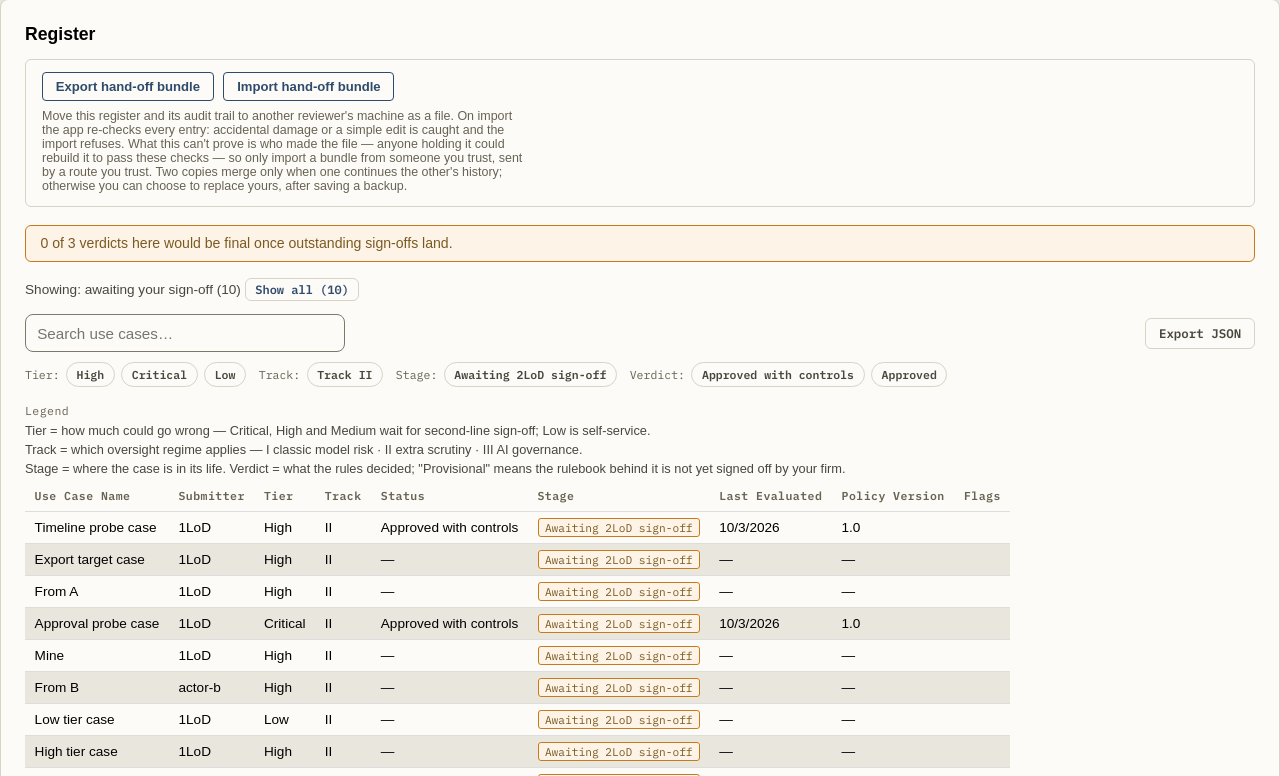
RegisterDetail (V1.2-A) › B5: 2LoD Approve appends twoloD_reviewed then lifecycle_stage_changed and advances the stage to approved
This screenshot has width=1280, height=776.
Click the button "Approval probe case". click: (97, 623)
box: [35,616,159,631]
(page scrolled)
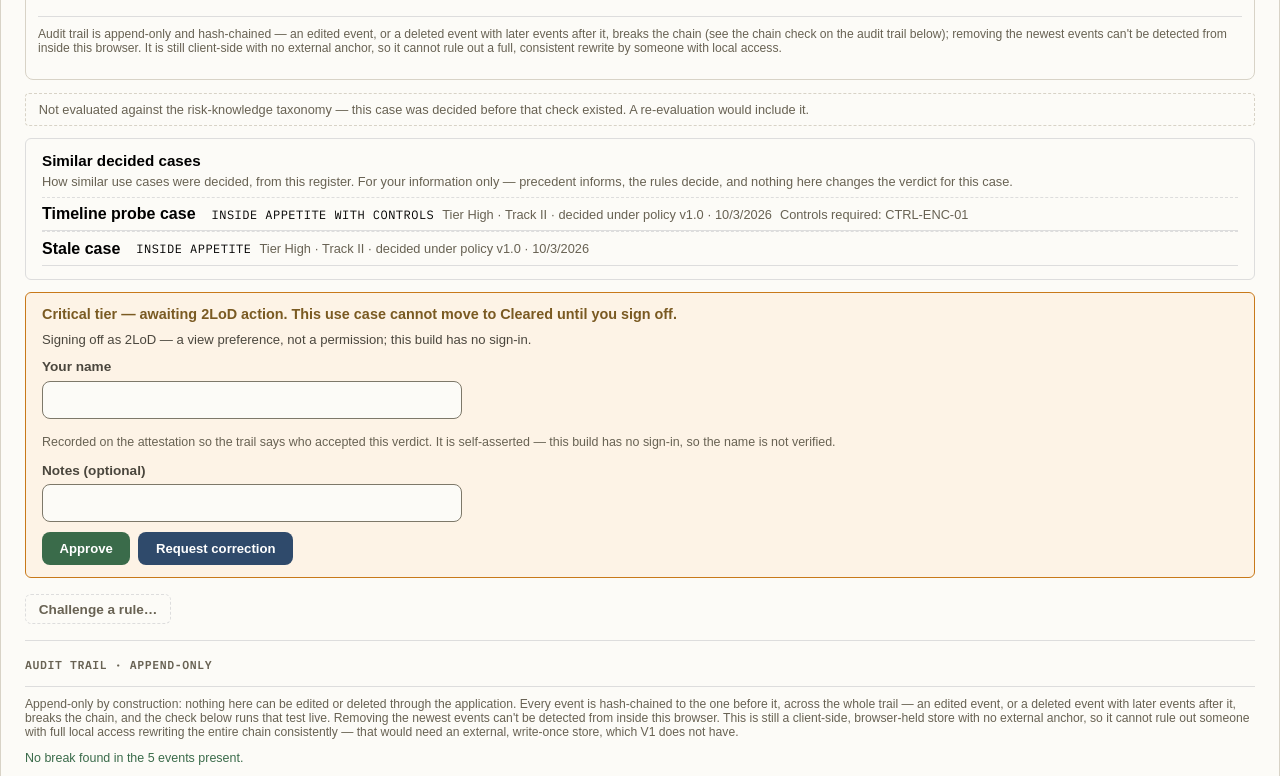
expect the text "awaiting 2LoD action" is shown: met, box [91,306,677,322]
Type "Priya Nair" into the field labelled "Your name". click: (252, 400)
box: [42,381,462,419]
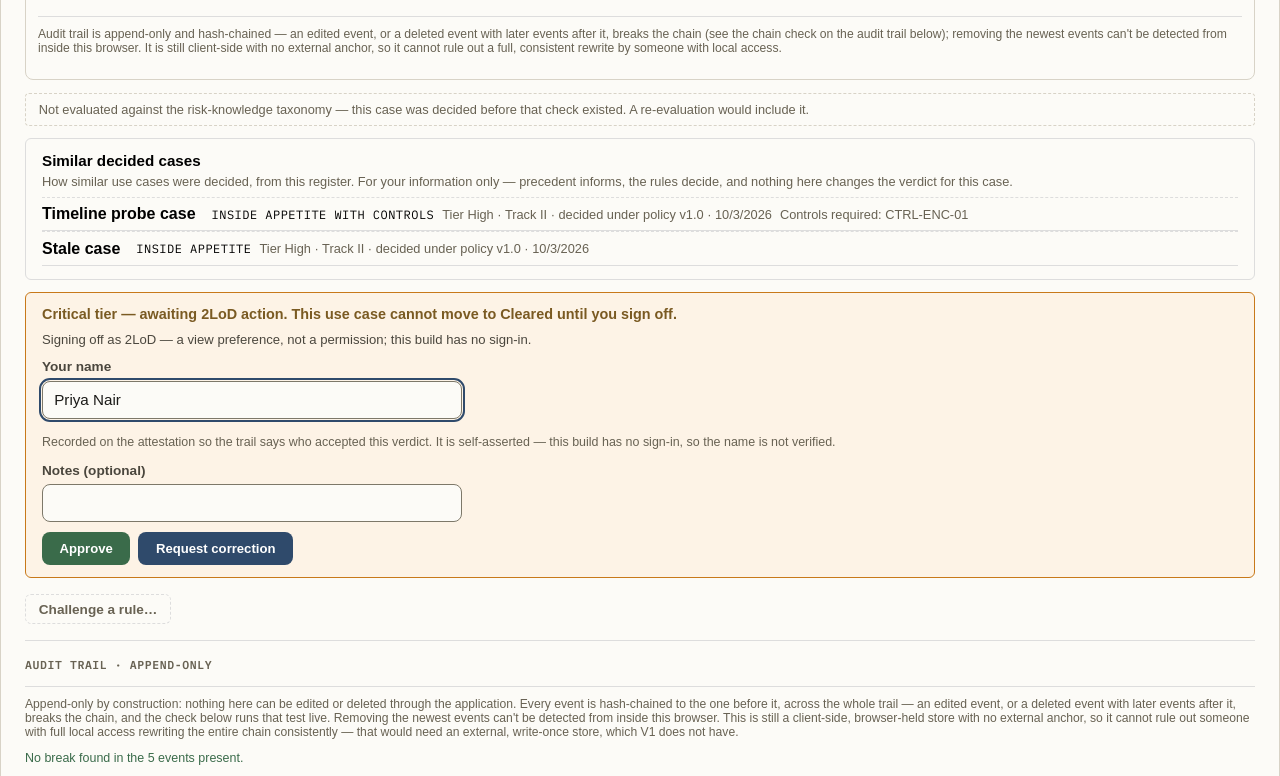
Click the button "Approve". click: (86, 548)
box: [42,532,130,564]
(page scrolled)
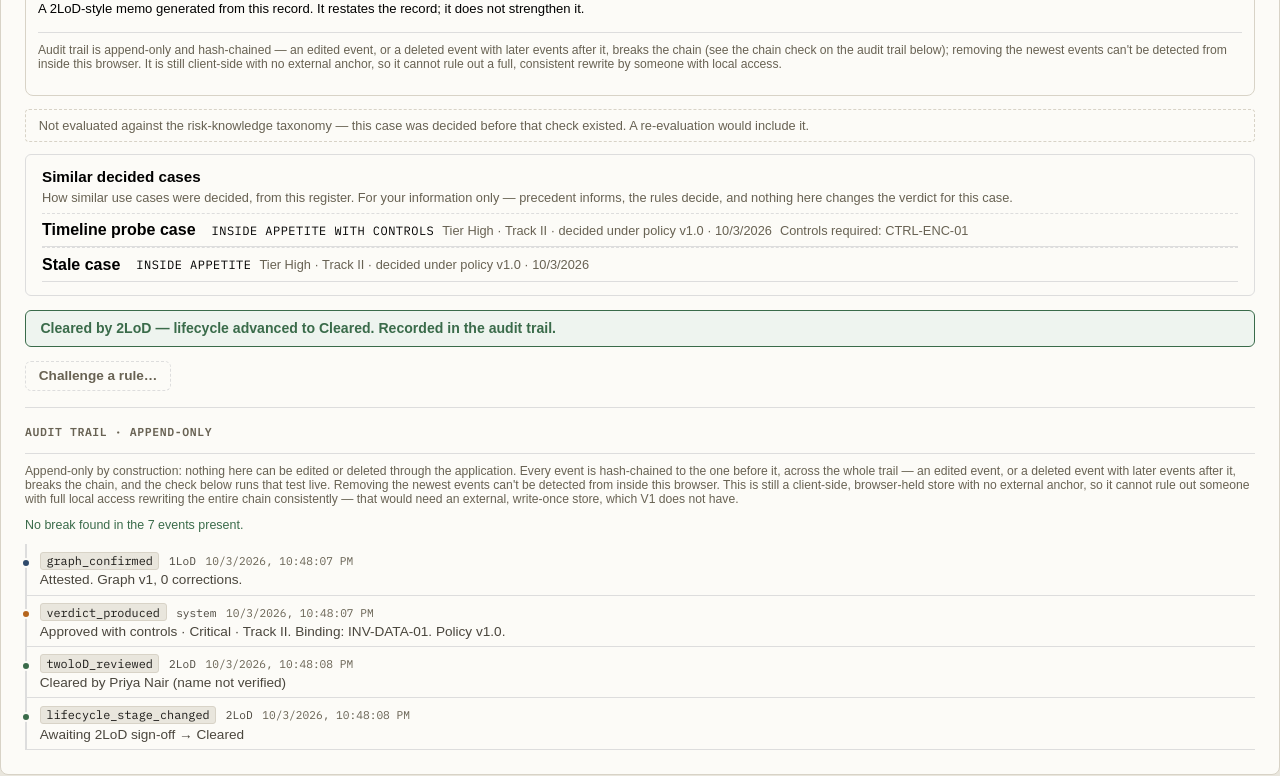
expect the text "Cleared by 2LoD — lifecycle advanced to Cleared. Recorded in the audit trail." is shown: met, box [25,310,1255,347]
